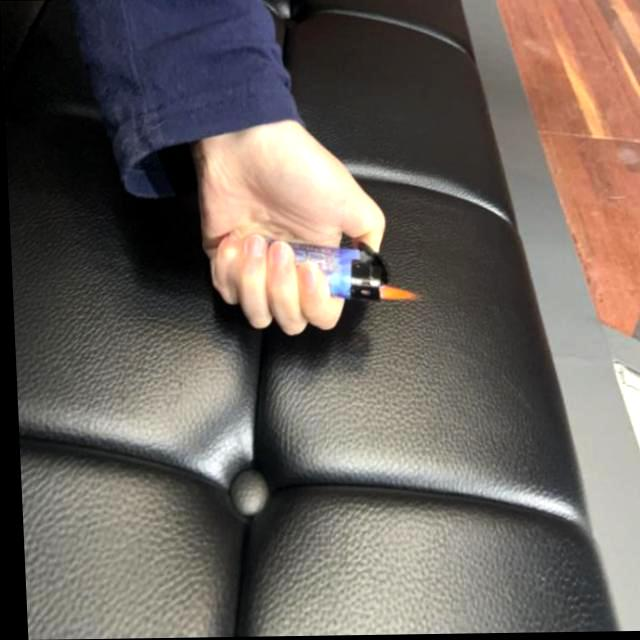fire: (374, 282, 422, 302)
